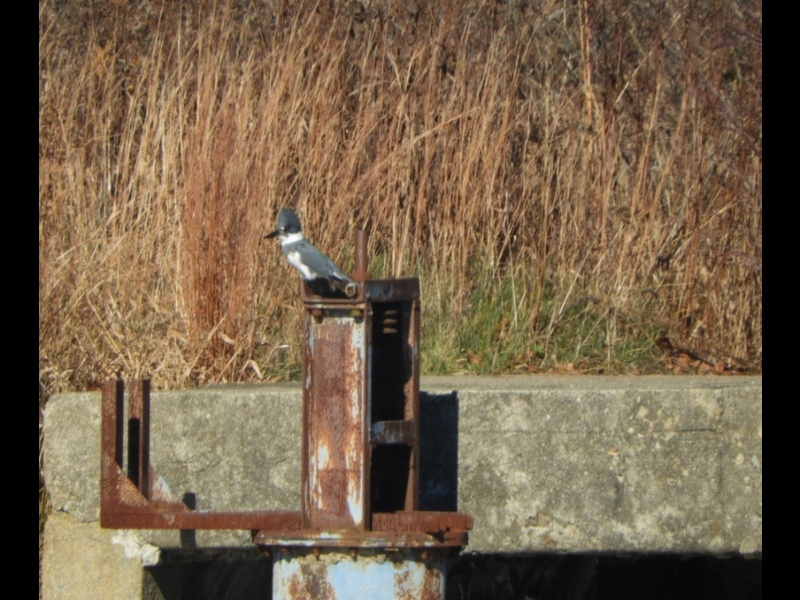kingfisher: (263, 206, 350, 285)
